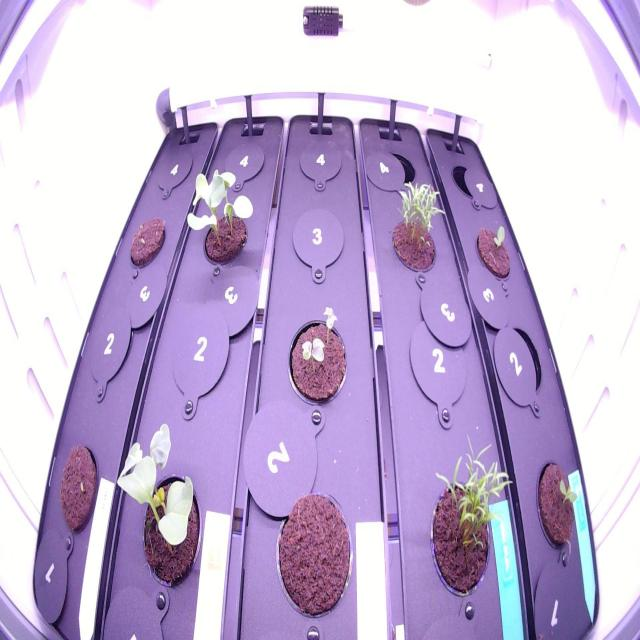empty_pod: (401, 317, 468, 418), (168, 306, 232, 410), (492, 313, 548, 408), (84, 305, 136, 390), (290, 206, 346, 278), (292, 132, 345, 198), (370, 137, 423, 200), (219, 132, 269, 194), (150, 144, 195, 202), (447, 150, 492, 208)
germination: (418, 424, 516, 614), (281, 298, 355, 414), (381, 175, 449, 282), (530, 439, 584, 568), (472, 218, 518, 287)
pod: (270, 485, 360, 624), (54, 439, 102, 538), (124, 202, 172, 273)
